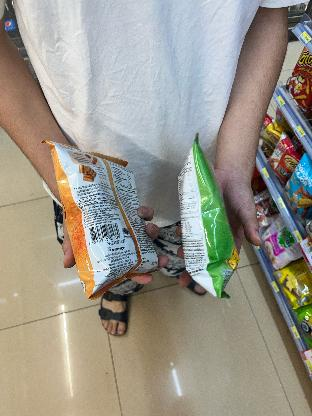Plastic Packaging: (38, 138, 168, 302), (169, 136, 243, 302)
